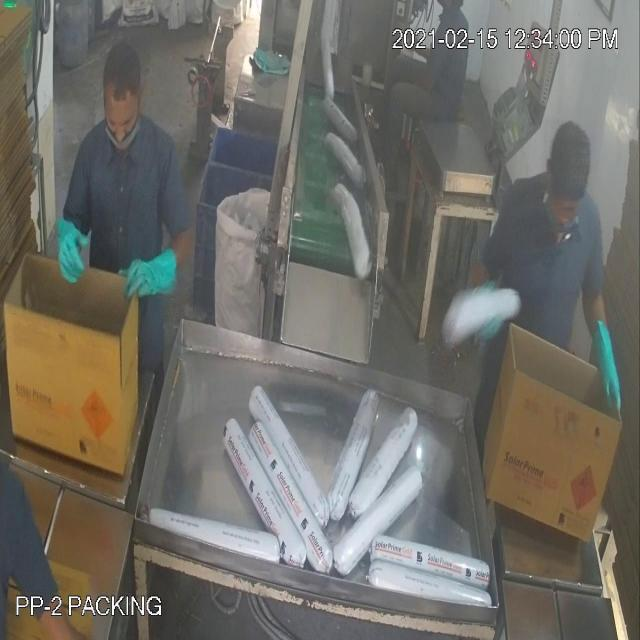Gloves: (40, 76, 609, 364)
